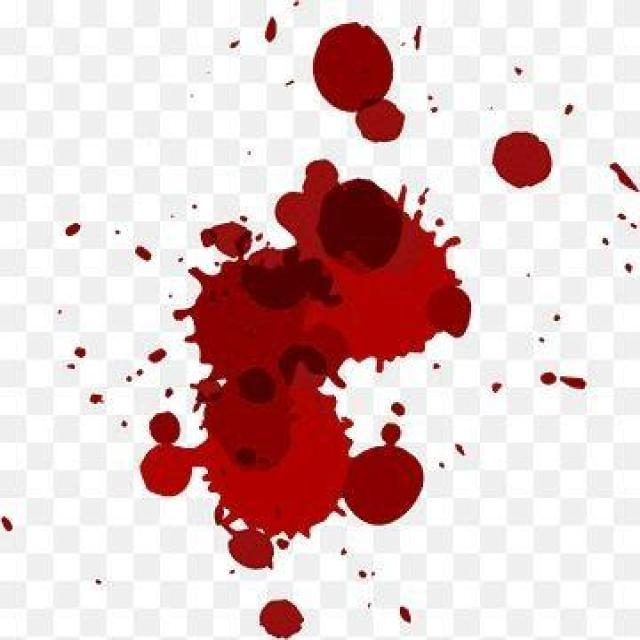flood: (136, 158, 475, 558), (285, 11, 578, 182)
